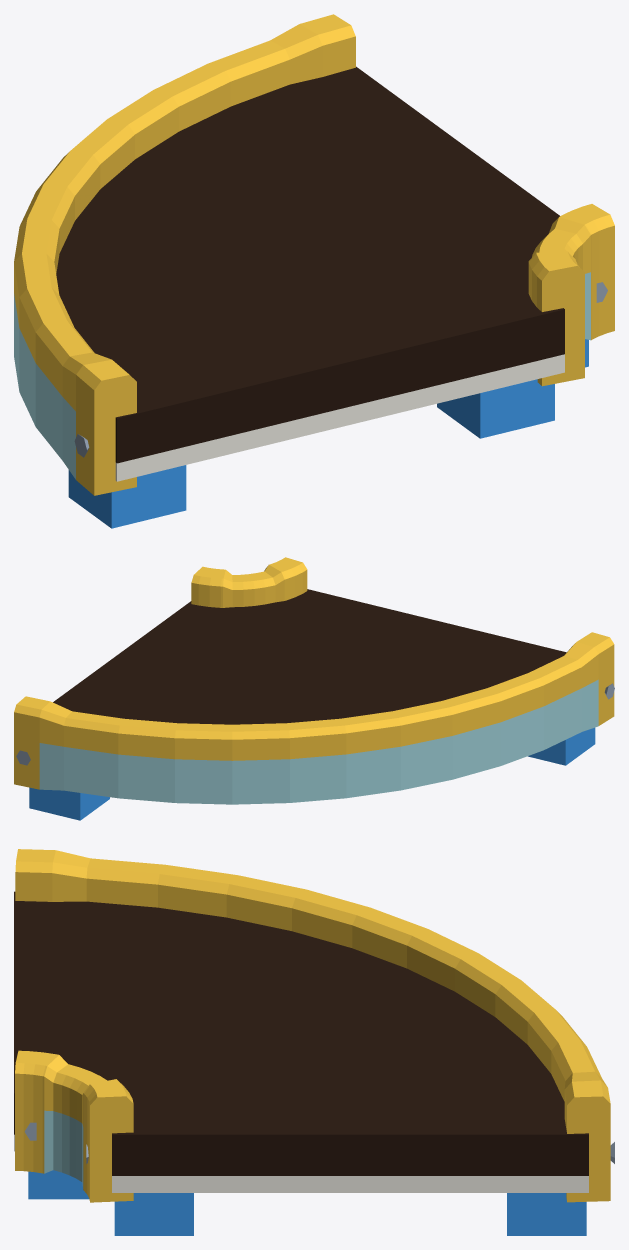
File: TurnRight.glb
3 views of the same model, one above another, from view 1: azimuth 30°, elevation 25°; view 2: azimuth 150°, elevation 25°; view 3: azimuth 270°, elevation 25° (orthographic). The views are drawn at different scales.
Visible parts, largest first — view 1: TurnRight; view 2: TurnRight; view 3: TurnRight.
Boxes of the visible parts, x1,y1,x2,y2 form: TurnRight: (14,14,614,528); TurnRight: (14,557,614,820); TurnRight: (14,849,614,1235).
Bounding box in the file's own units: 0.9948 × 0.2626 × 0.9948.
Materials: 1 (1 with a texture image).
